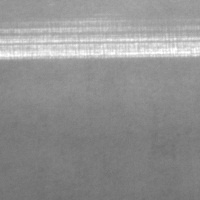scratches: (9, 25, 199, 58)
